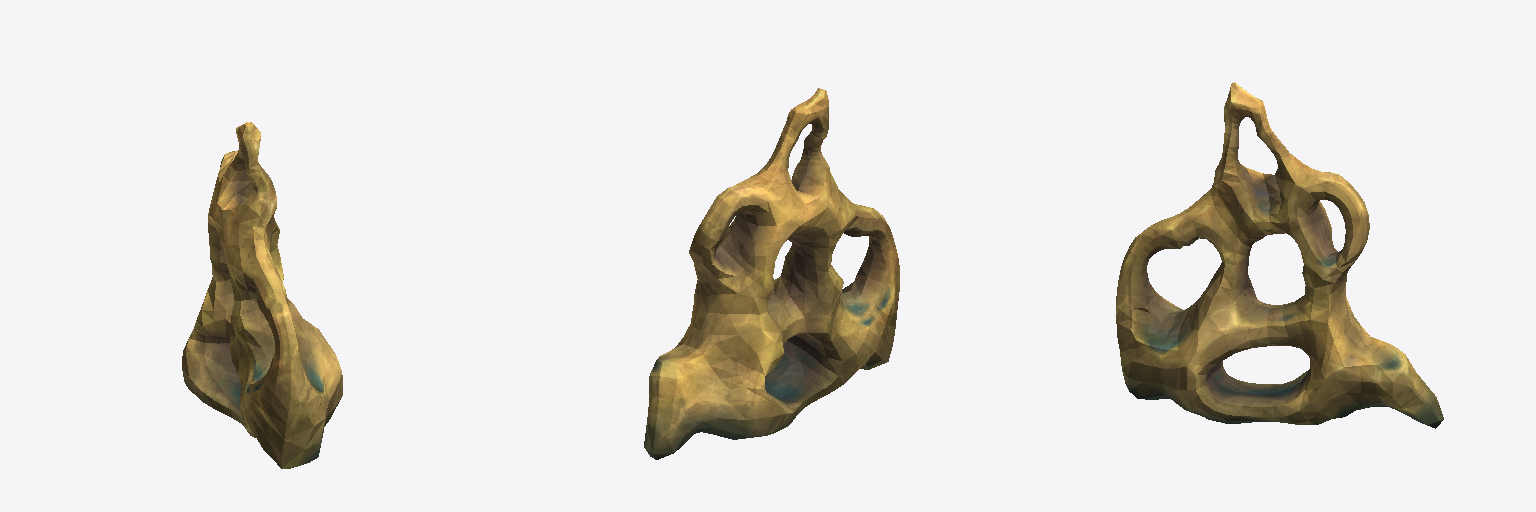
The picture shows the model from 3 angles: view 1: azimuth 30°, elevation 25°; view 2: azimuth 150°, elevation 25°; view 3: azimuth 270°, elevation 25°; orthographic projection.
Parts seen in each view (by area): view 1: 1_6; view 2: 1_6; view 3: 1_6.
Part boxes in pixels (bbox=[...]): 1_6: bbox=[182, 122, 342, 468]; 1_6: bbox=[644, 88, 899, 459]; 1_6: bbox=[1116, 82, 1443, 428].
Bounding box in the file's own units: 66.83 × 161 × 151.
Materials: 1 (1 with a texture image).